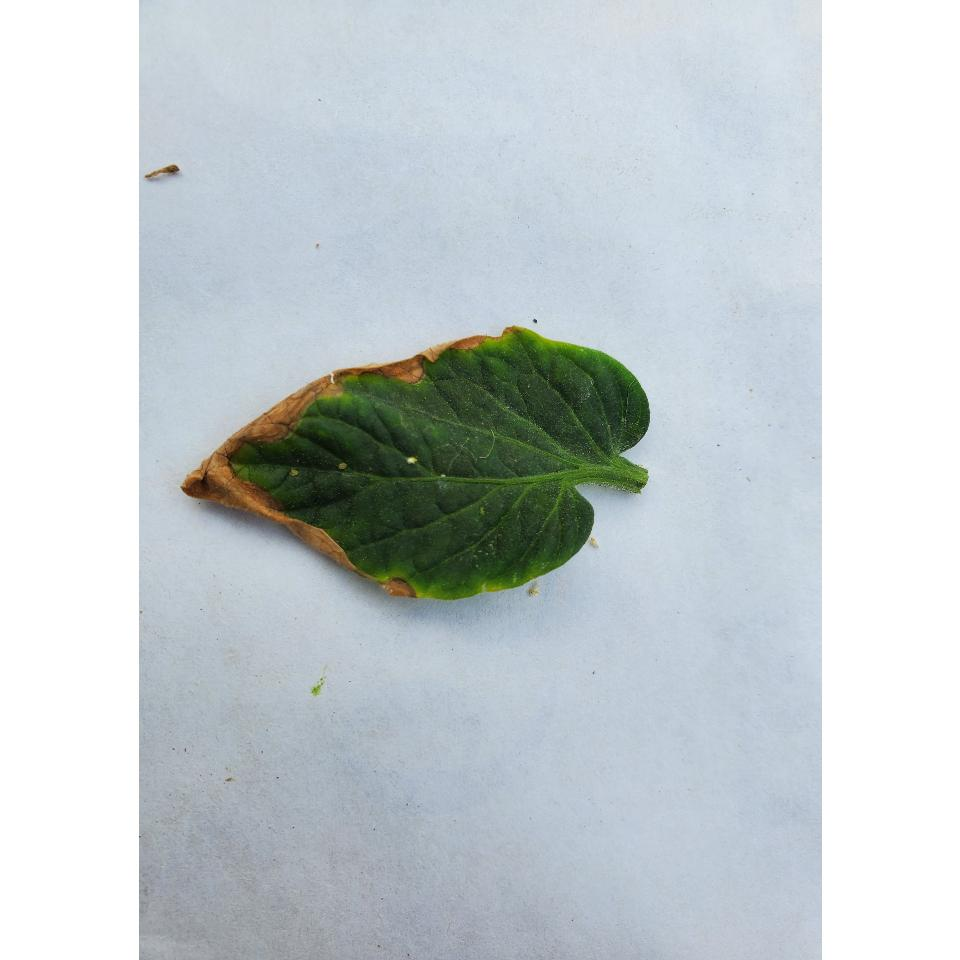tomato_bacterial_blight: (181, 343, 657, 581)
